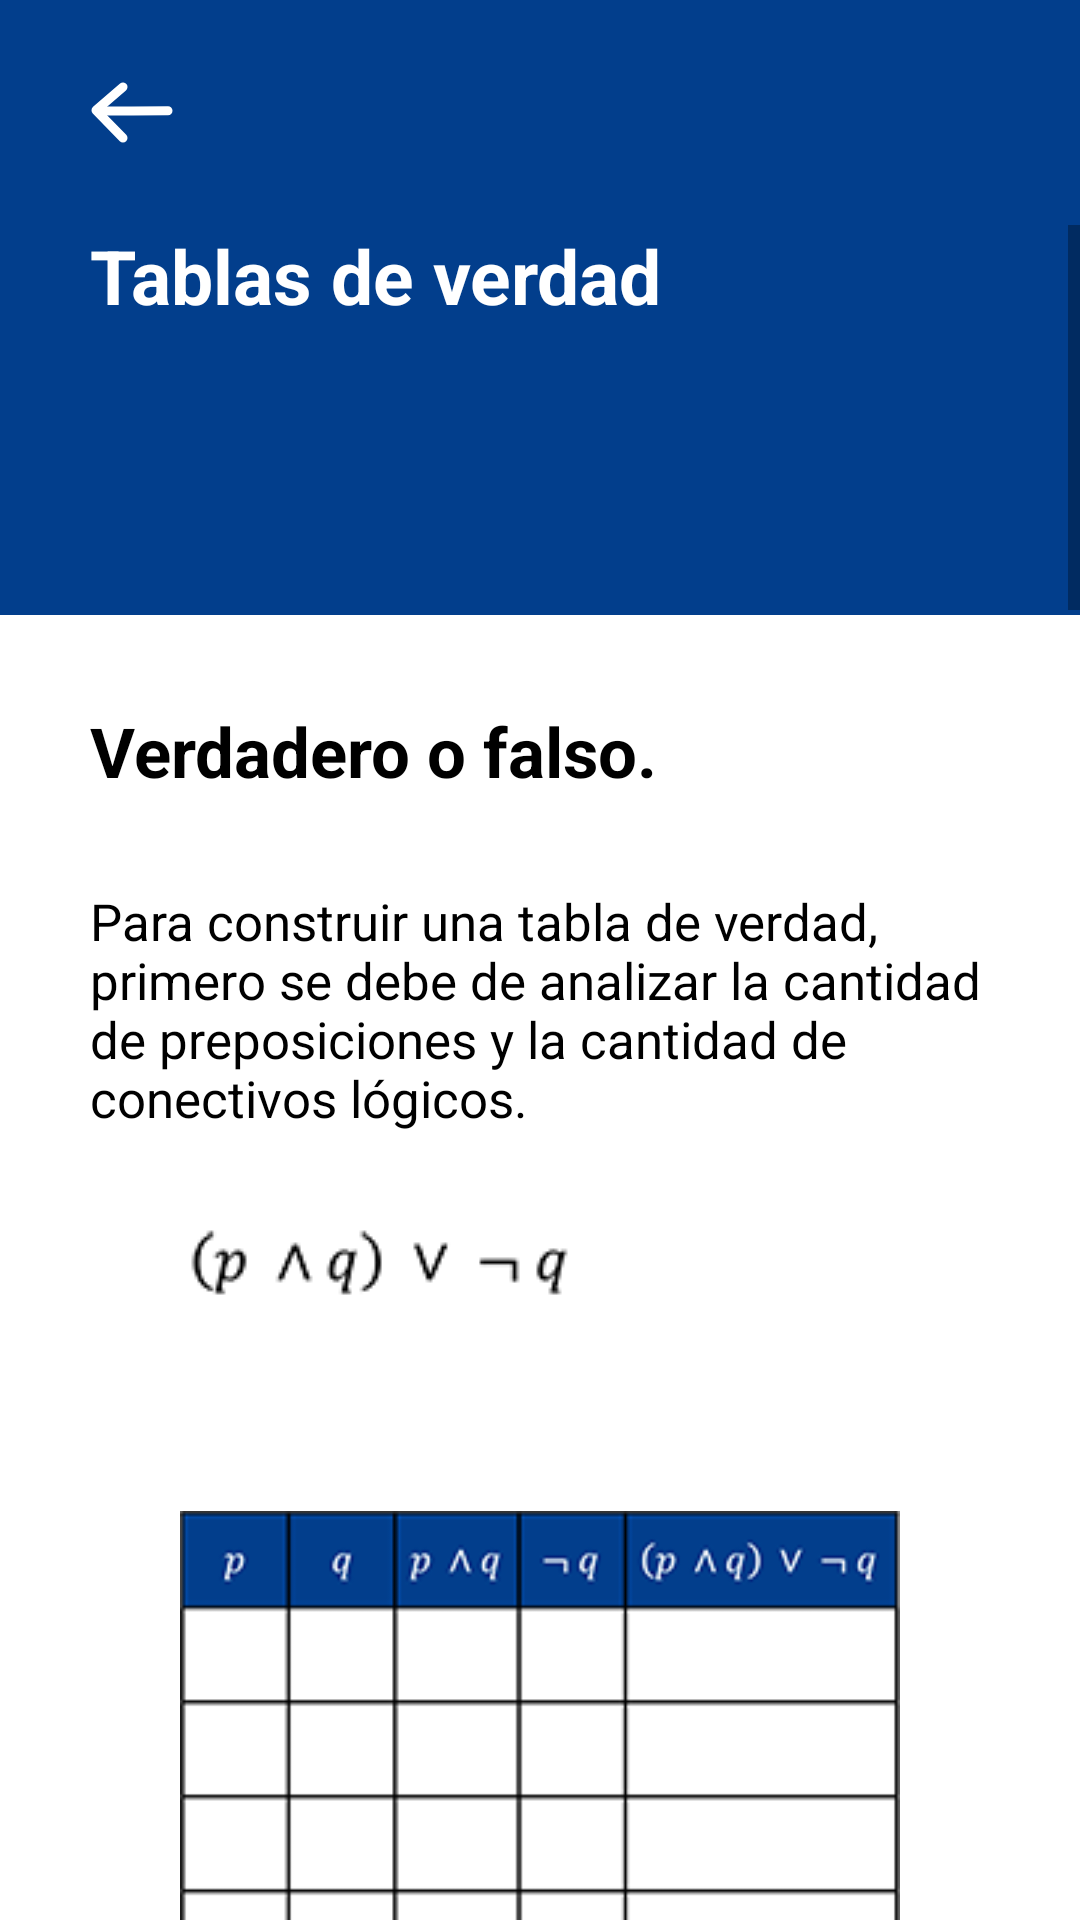

Named icons in this screenshot (1080px×1920px) and their bounding boxes, (x1, y1, x2, y2):
retroceso: (91, 82, 173, 143)
